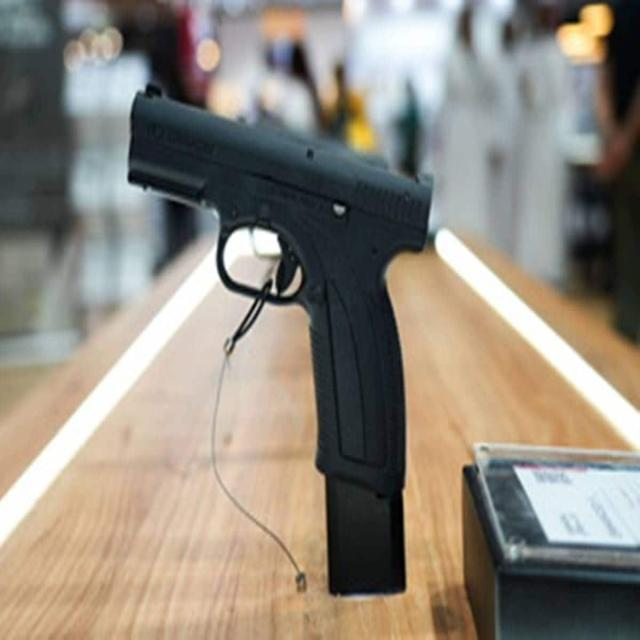Gun: (115, 60, 459, 520)
